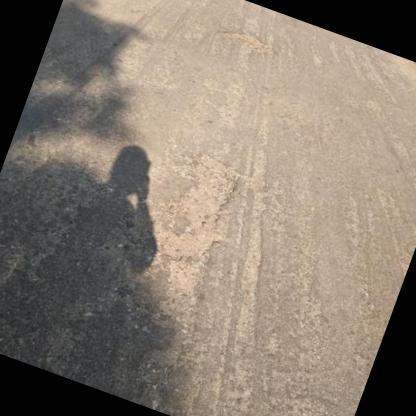pothole: (133, 143, 249, 301), (213, 21, 280, 63)
